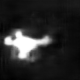plane: (3, 27, 52, 63)
